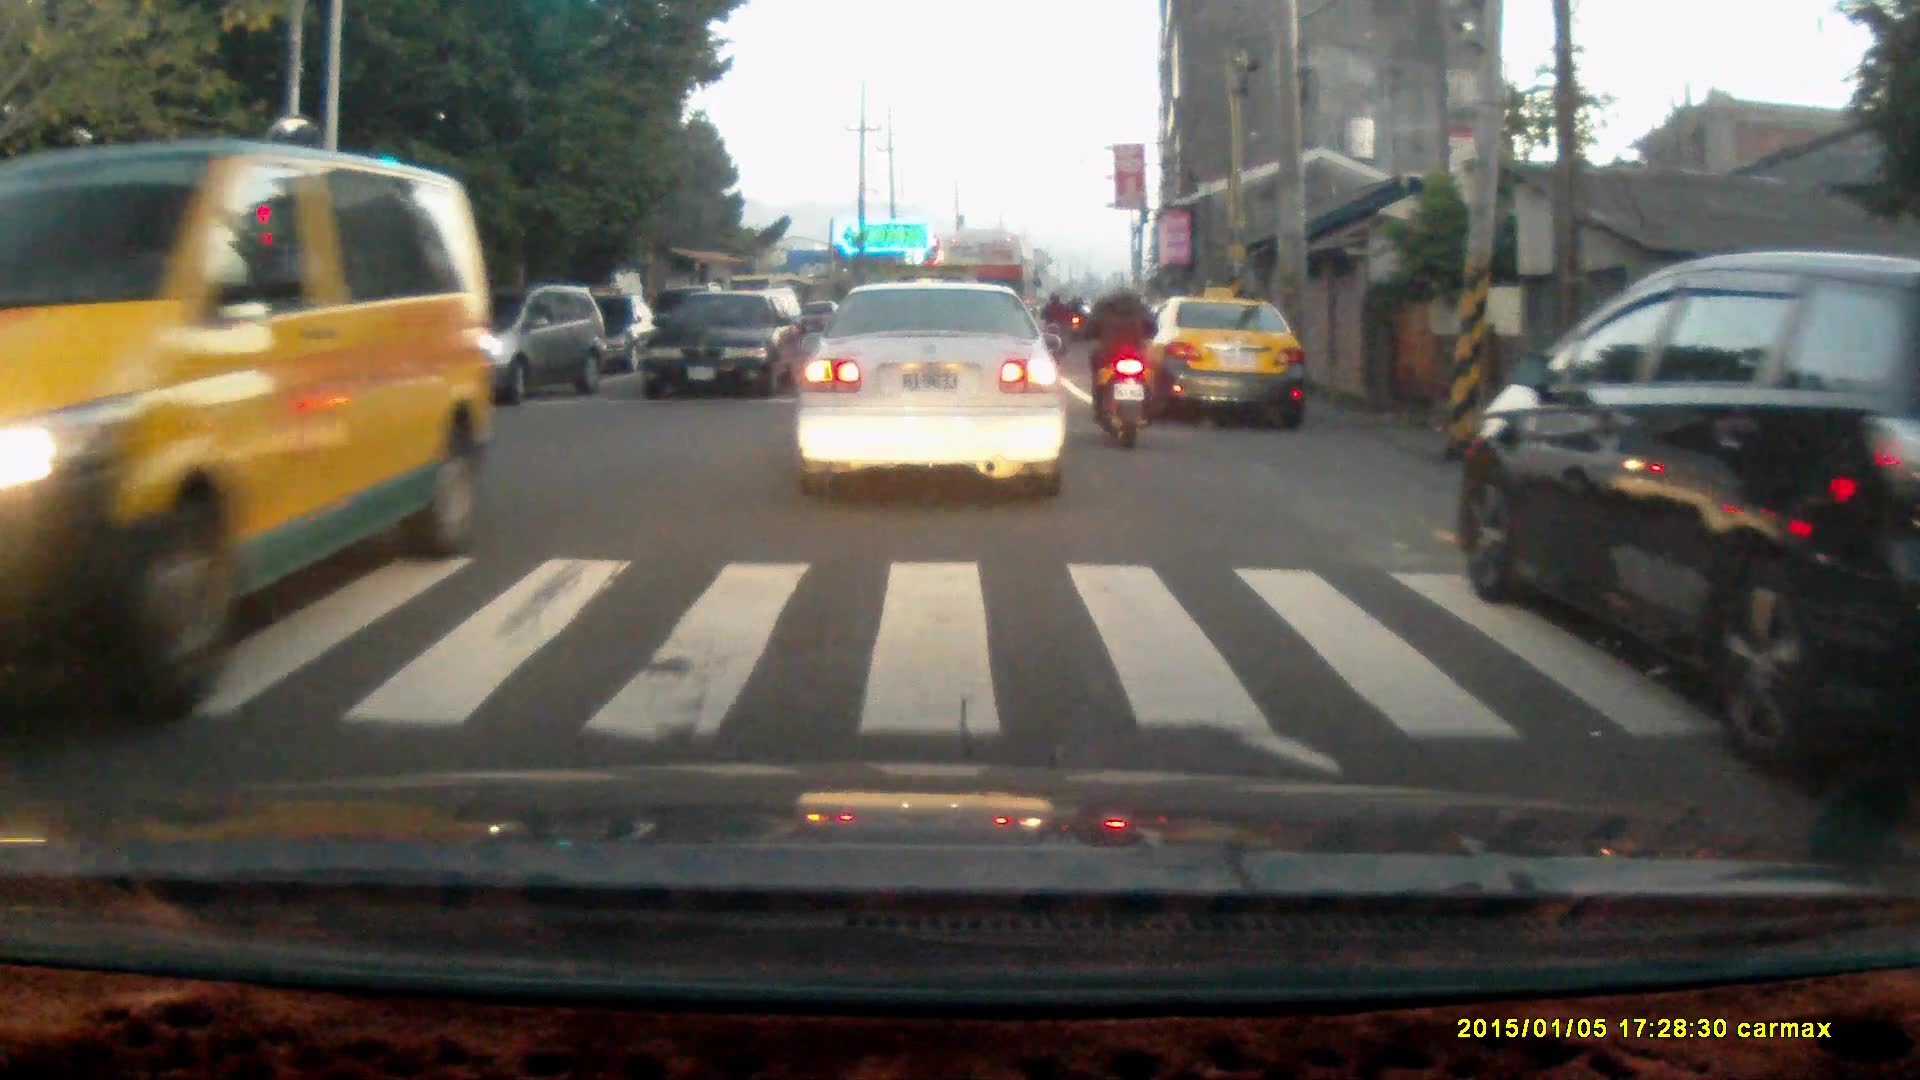rider: (1077, 265, 1162, 448)
vehicle: (3, 138, 511, 709), (1465, 246, 1920, 754), (795, 276, 1072, 502), (1132, 294, 1307, 428), (639, 286, 803, 405)
